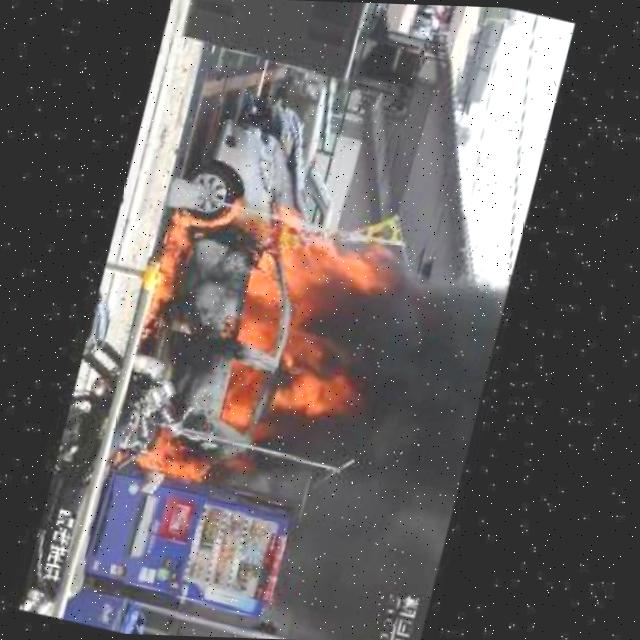fire: (89, 160, 399, 526)
